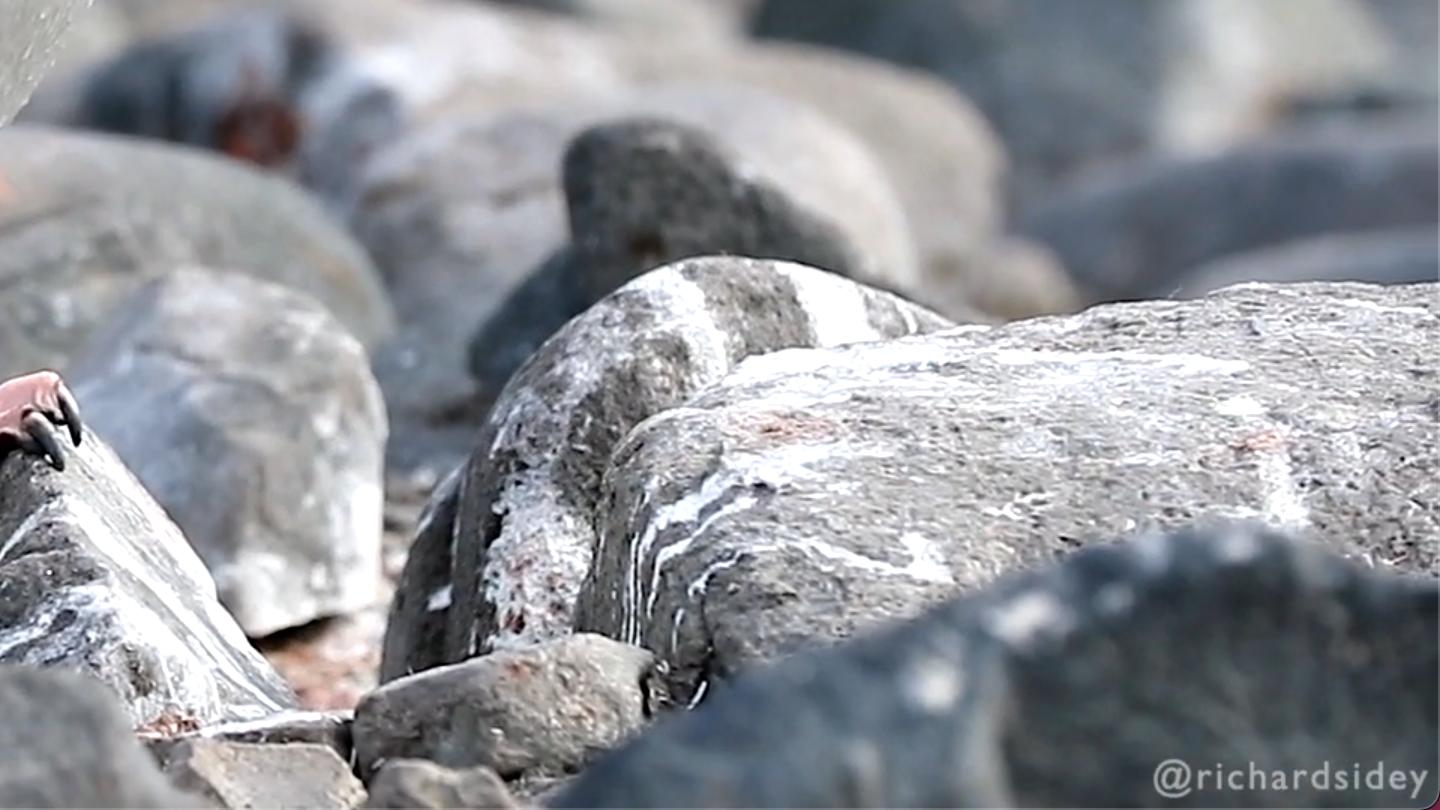Chinstrap Penguin: (0, 0, 547, 601)
